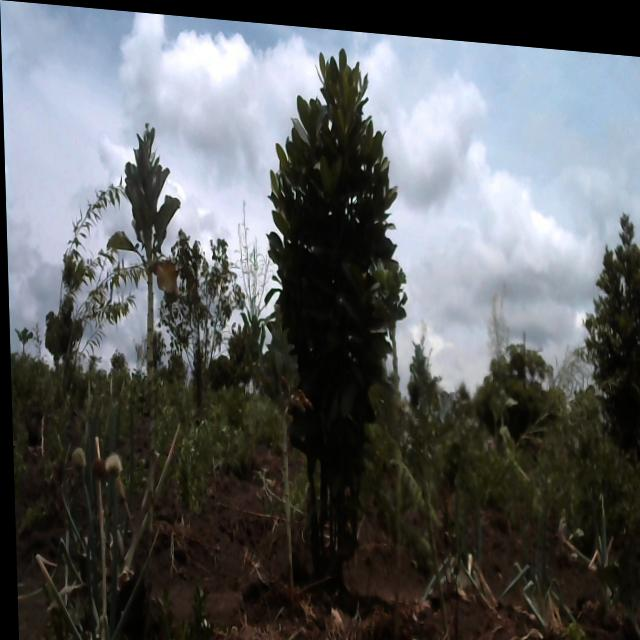other: (260, 32, 413, 568), (578, 192, 640, 447), (158, 224, 239, 408)
